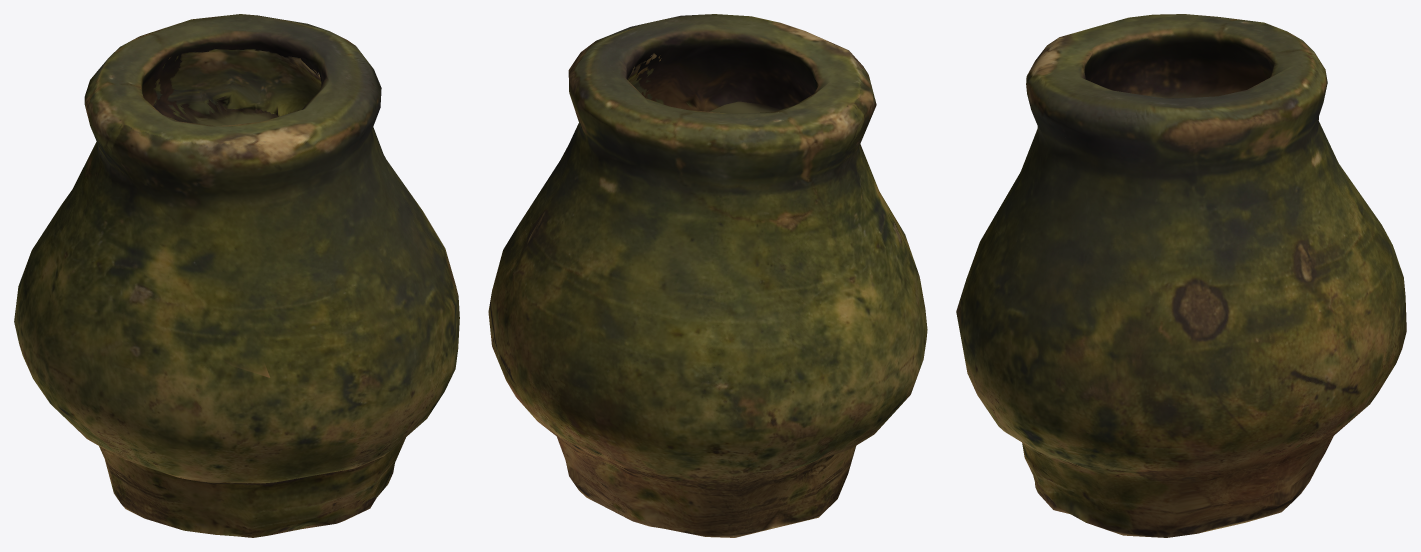
File: Cosmetic_Pot.fbx
3 renders of one model, left to right at view 1: azimuth 30°, elevation 25°; view 2: azimuth 150°, elevation 25°; view 3: azimuth 270°, elevation 25°, orthographic.
Parts seen in each view (by area): view 1: Cosmetic_Pot_LOD0; view 2: Cosmetic_Pot_LOD0; view 3: Cosmetic_Pot_LOD0.
Boxes of the visible parts, left/top/right/bottom form: Cosmetic_Pot_LOD0: left=14, top=14, right=459, bottom=537; Cosmetic_Pot_LOD0: left=488, top=14, right=927, bottom=537; Cosmetic_Pot_LOD0: left=956, top=14, right=1406, bottom=537.
Size of what is drawn, in the model's own units: 69.89 by 74.34 by 71.46.
1 material, 1 textured.
